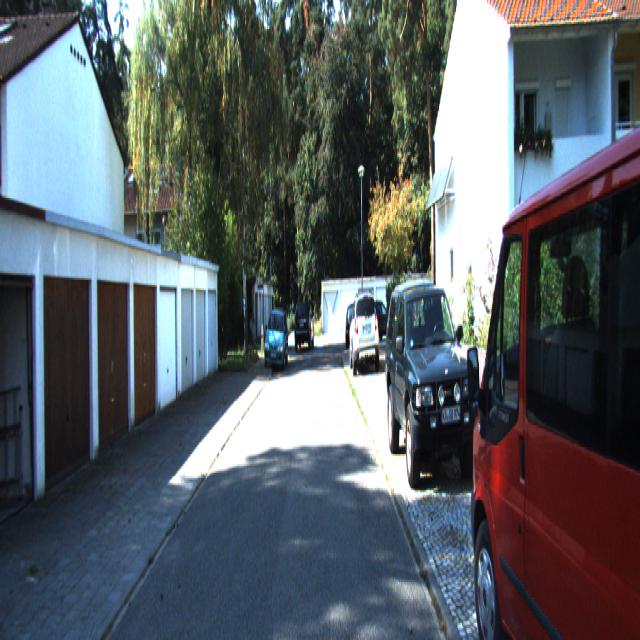Car: (463, 14, 639, 638), (384, 266, 478, 498), (348, 289, 378, 373), (264, 309, 288, 370), (294, 299, 314, 348)
